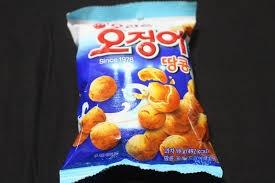snack: (60, 1, 224, 183)
